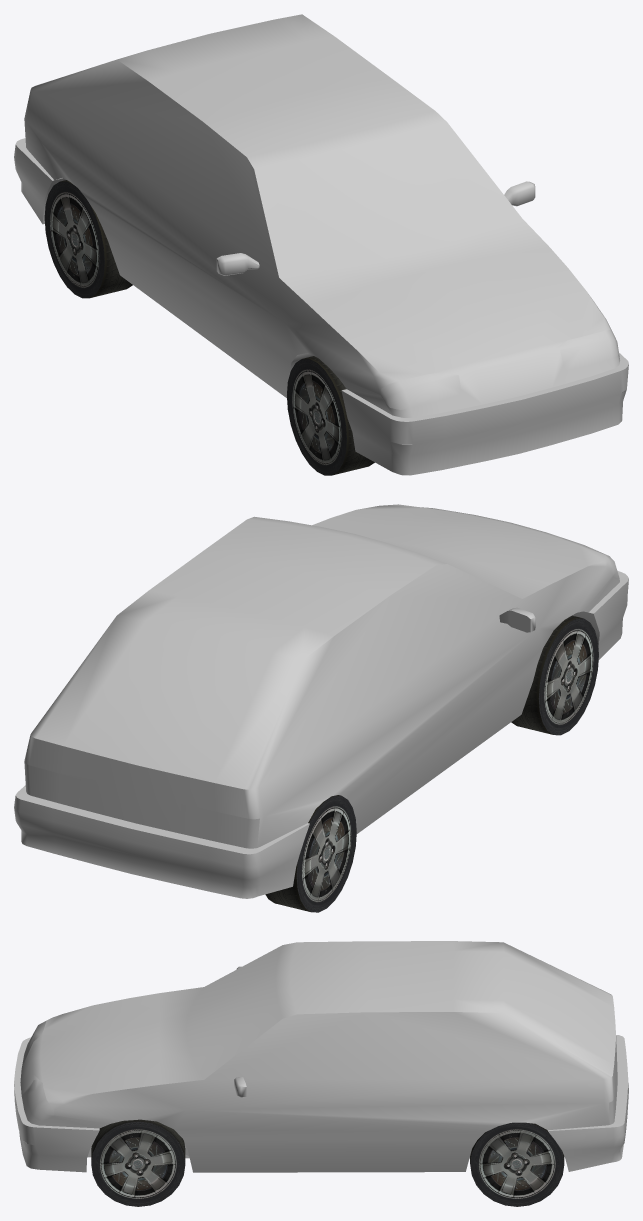
The model's file is Car_06.fbx.
3 views of the same model, one above another, from view 1: azimuth 30°, elevation 25°; view 2: azimuth 150°, elevation 25°; view 3: azimuth 270°, elevation 25° (orthographic). The views are drawn at different scales.
Visible parts, largest first — view 1: Car, FR, BR, Car ON; view 2: Car, FR, BR, Car ON; view 3: Car, FL, BL, Car ON.
Boxes of the visible parts, x1=… form: Car: x1=14, y1=14, x2=628, y2=475; FR: x1=287, y1=356, x2=374, y2=475; BR: x1=44, y1=180, x2=132, y2=298; Car ON: x1=380, y1=330, x2=618, y2=409; Car: x1=14, y1=504, x2=628, y2=898; FR: x1=511, y1=615, x2=598, y2=735; BR: x1=265, y1=795, x2=356, y2=912; Car ON: x1=24, y1=507, x2=618, y2=848; Car: x1=14, y1=941, x2=628, y2=1172; FL: x1=91, y1=1119, x2=185, y2=1206; BL: x1=470, y1=1122, x2=564, y2=1206; Car ON: x1=27, y1=1021, x2=616, y2=1124.
Size of the model in its own units: 2.03 by 1.47 by 4.39.
